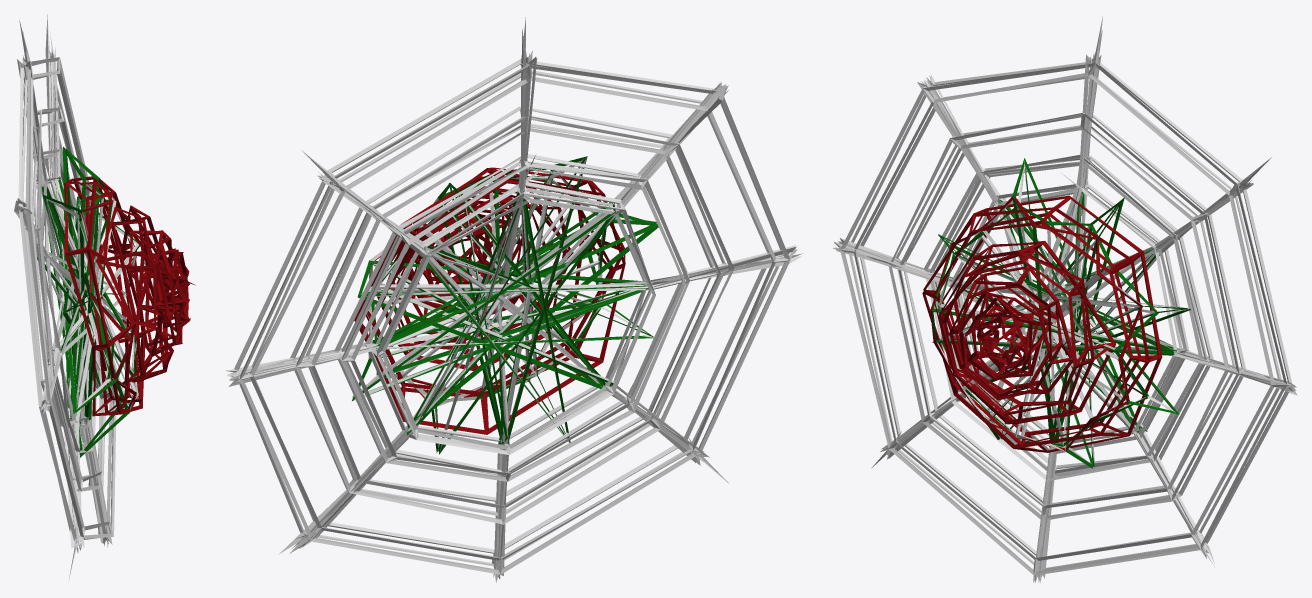
The model's file is rose web 2.fbx.
3 renders of one model, left to right at view 1: azimuth 30°, elevation 25°; view 2: azimuth 150°, elevation 25°; view 3: azimuth 270°, elevation 25°, orthographic. The views are drawn at different scales.
Parts seen in each view (by area): view 1: Cylinder.096; view 2: Cylinder.096; view 3: Cylinder.096.
Boxes of the visible parts, x1,y1,x2,y2 form: Cylinder.096: (14, 14, 195, 580); Cylinder.096: (226, 17, 802, 582); Cylinder.096: (833, 16, 1297, 583).
Bounding box in the file's own units: 297 × 544 × 423.
